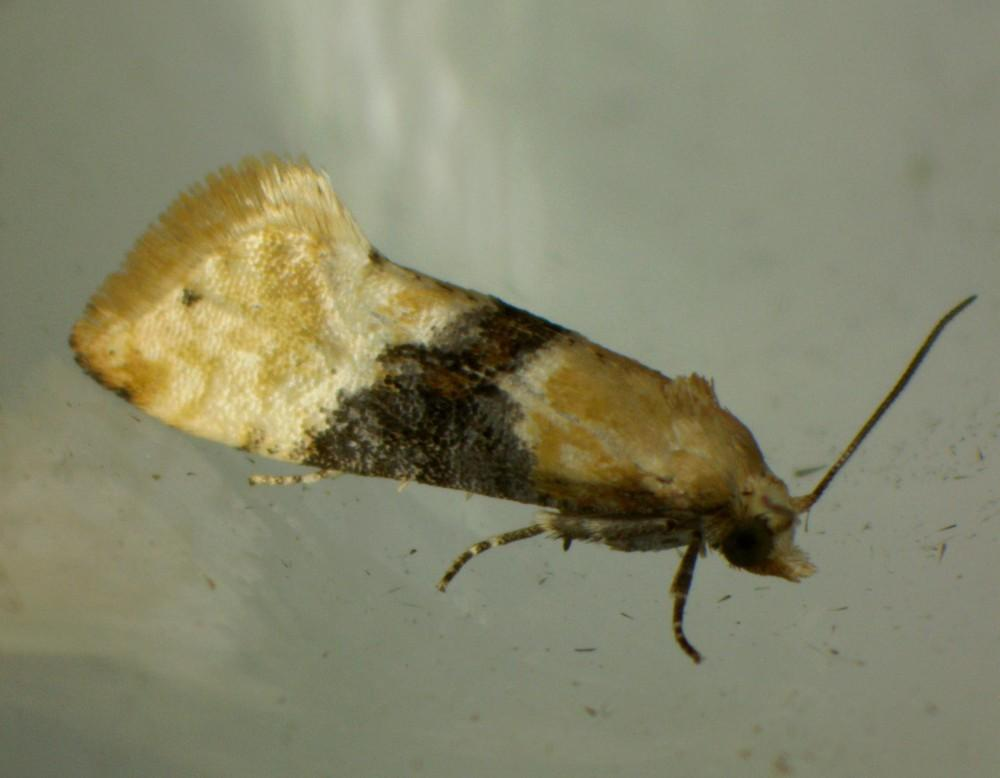Eupoecilia Ambiguella: (66, 147, 979, 667)
